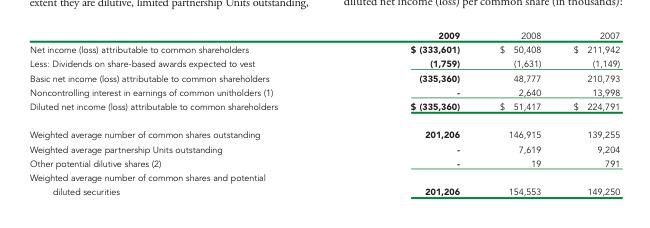table: (29, 29, 619, 196)
table column: (29, 29, 343, 196), (343, 29, 479, 196), (479, 29, 556, 196), (556, 29, 619, 196)
table column header: (29, 29, 619, 41)
table row: (29, 170, 619, 196), (29, 98, 619, 120), (29, 120, 619, 141), (29, 41, 619, 56), (29, 155, 619, 170), (29, 56, 619, 70), (29, 70, 619, 84), (29, 84, 619, 98), (29, 141, 619, 155), (29, 29, 619, 41)
